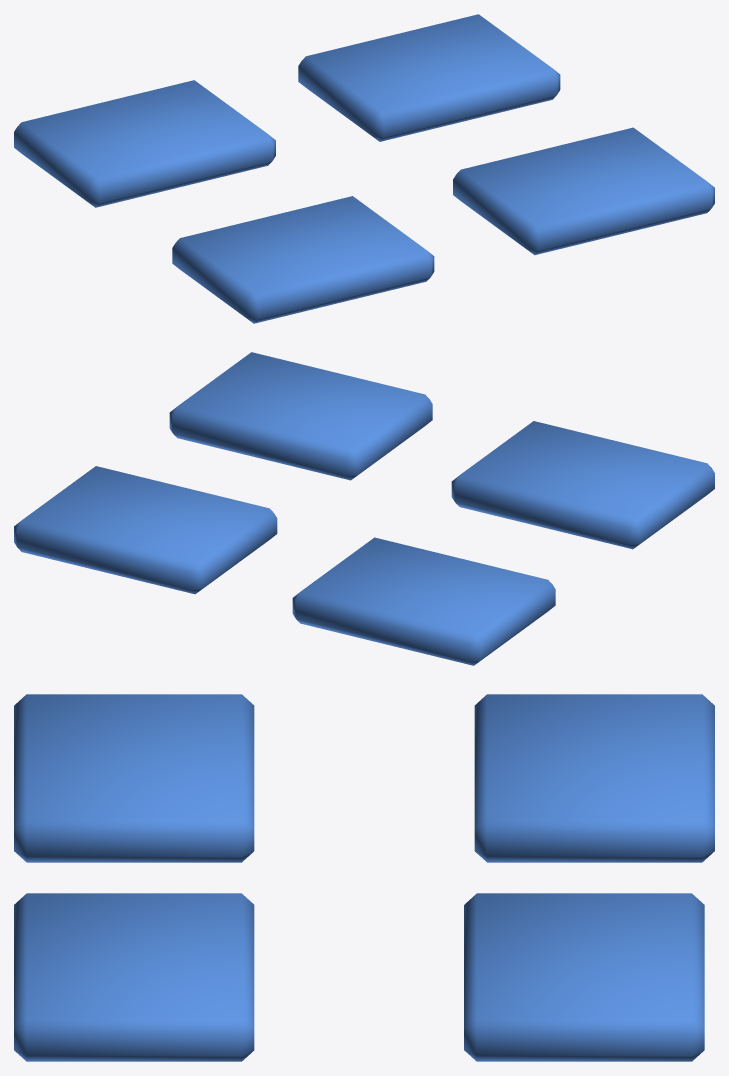
Rendered from Jeroglíficos.obj.
3 views of the same model, one above another, from view 1: azimuth 30°, elevation 25°; view 2: azimuth 150°, elevation 25°; view 3: azimuth 270°, elevation 25° (orthographic). The views are drawn at different scales.
Parts seen in each view (by area): view 1: Box002, Box004, Box001, Box003; view 2: Box004, Box003, Box001, Box002; view 3: Box004, Box001, Box002, Box003.
Boxes of the visible parts, <box> form: Box002: <box>172,196,434,323</box>; Box004: <box>298,14,560,141</box>; Box001: <box>14,80,275,207</box>; Box003: <box>453,127,714,255</box>; Box004: <box>14,466,277,594</box>; Box003: <box>169,352,432,480</box>; Box001: <box>292,537,555,665</box>; Box002: <box>451,421,714,549</box>; Box004: <box>464,893,704,1061</box>; Box001: <box>474,694,714,862</box>; Box002: <box>14,694,254,862</box>; Box003: <box>14,893,254,1061</box>.
Bounding box in the file's own units: 38.42 × 2.47 × 34.23.
